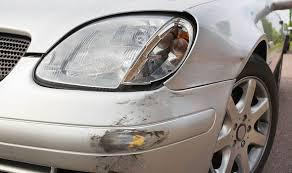front-bumper-dent: (51, 91, 235, 172)
